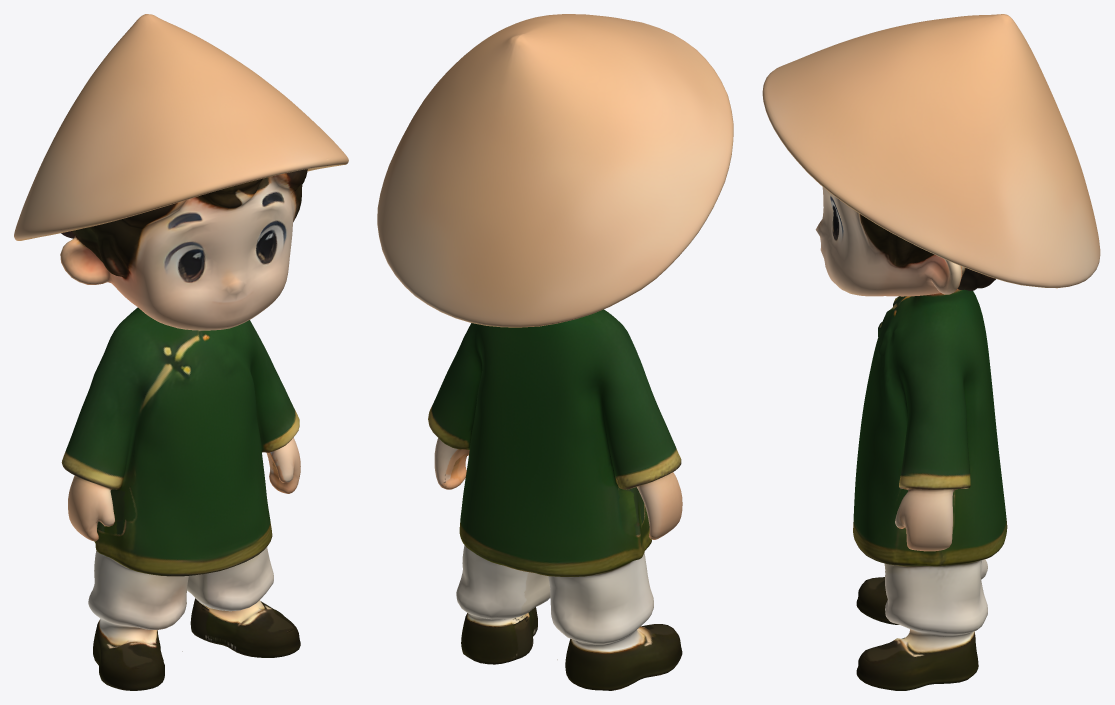
Rendered from codo-hyper-textured-01-to-07-mobile.glb.
3 renders of one model, left to right at view 1: azimuth 30°, elevation 25°; view 2: azimuth 150°, elevation 25°; view 3: azimuth 270°, elevation 25°, orthographic. The views are drawn at different scales.
Parts seen in each view (by area): view 1: CoDo_Frame01_Idle_Textured; view 2: CoDo_Frame01_Idle_Textured; view 3: CoDo_Frame01_Idle_Textured.
Part boxes in pixels (<box>): CoDo_Frame01_Idle_Textured: <box>14,14,348,690</box>; CoDo_Frame01_Idle_Textured: <box>377,14,733,690</box>; CoDo_Frame01_Idle_Textured: <box>762,14,1100,690</box>.
Size of the model in its own units: 0.7592 by 1.55 by 0.7521.
Materials: 2 (2 with a texture image).
